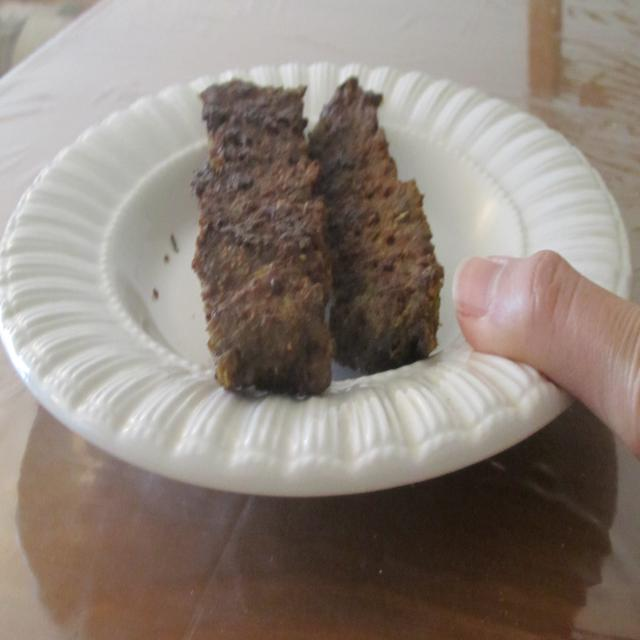cutlet: (190, 55, 438, 386)
